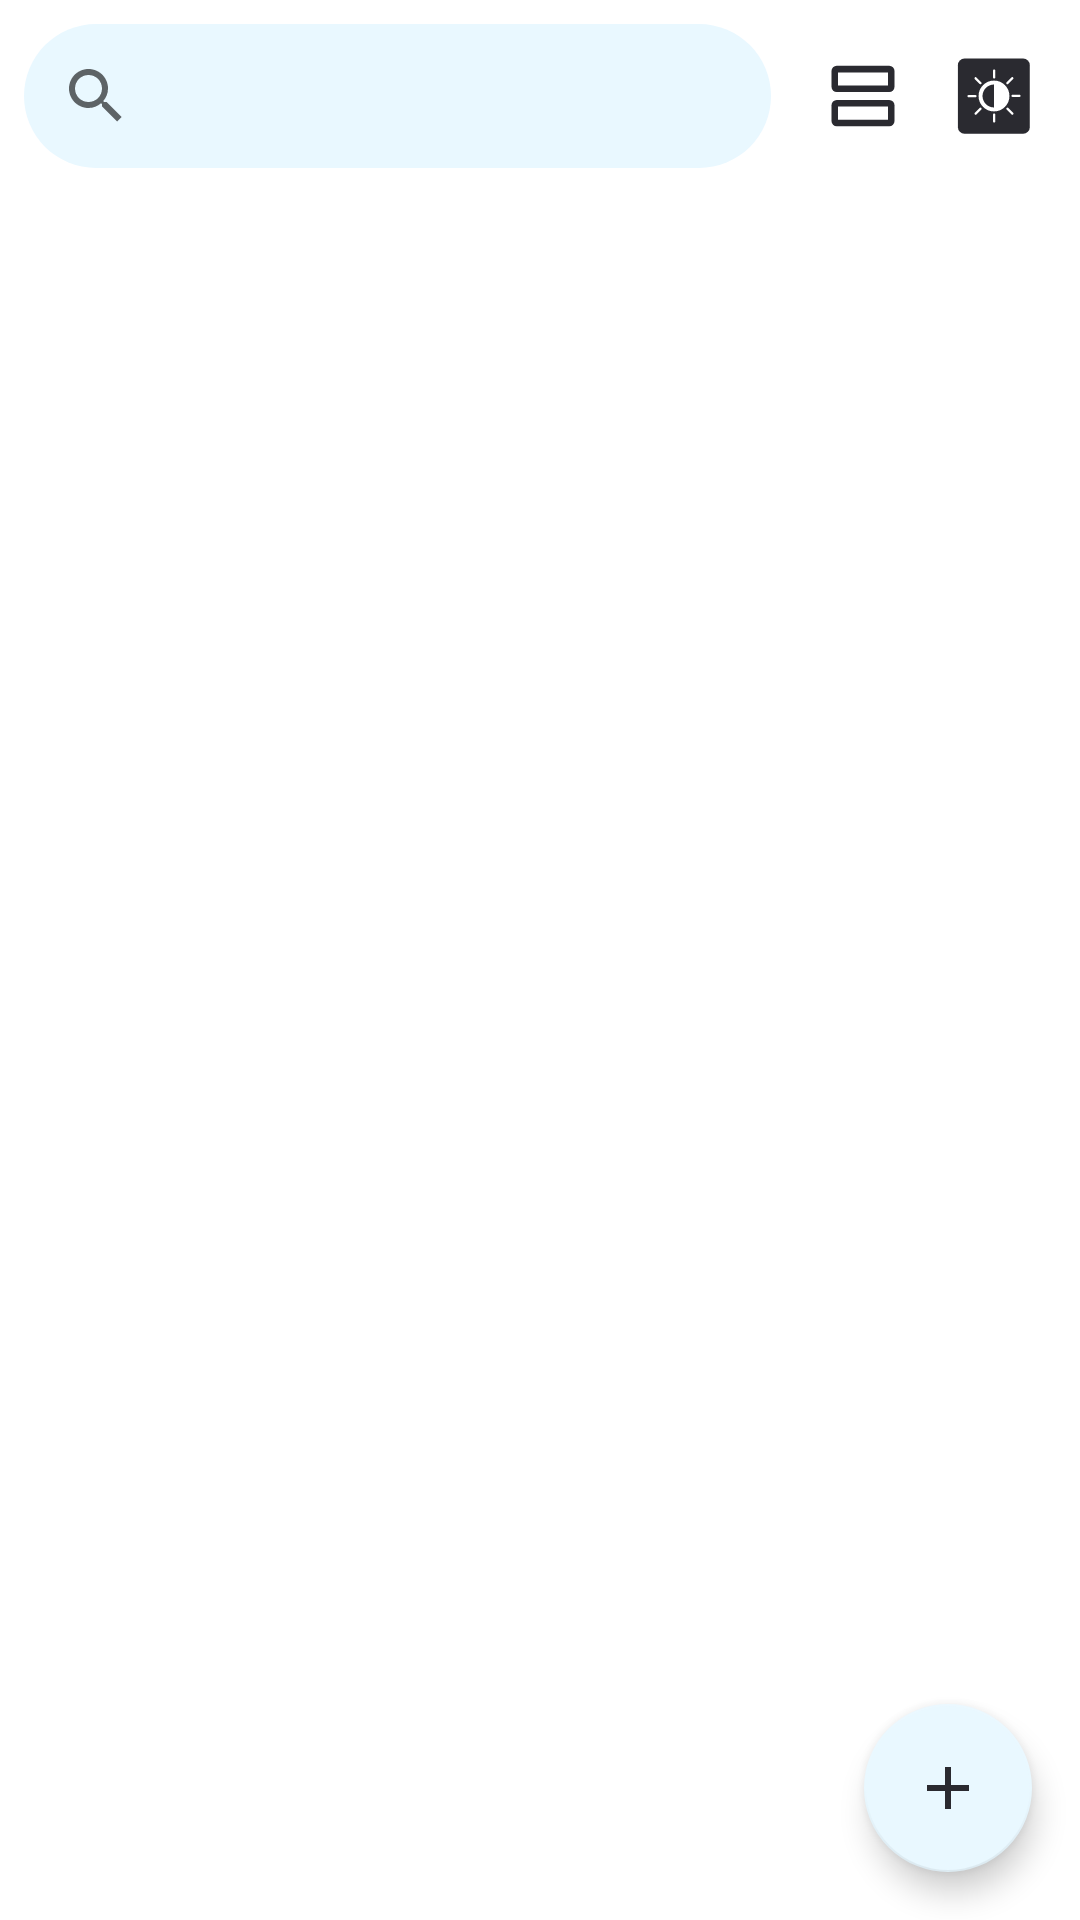

Icons on this 1080px x 1920px Android screen, each with the point to tap as (x=x, y=y):
add: (x=948, y=1788)
list: (x=863, y=96)
mode: (x=993, y=96)
